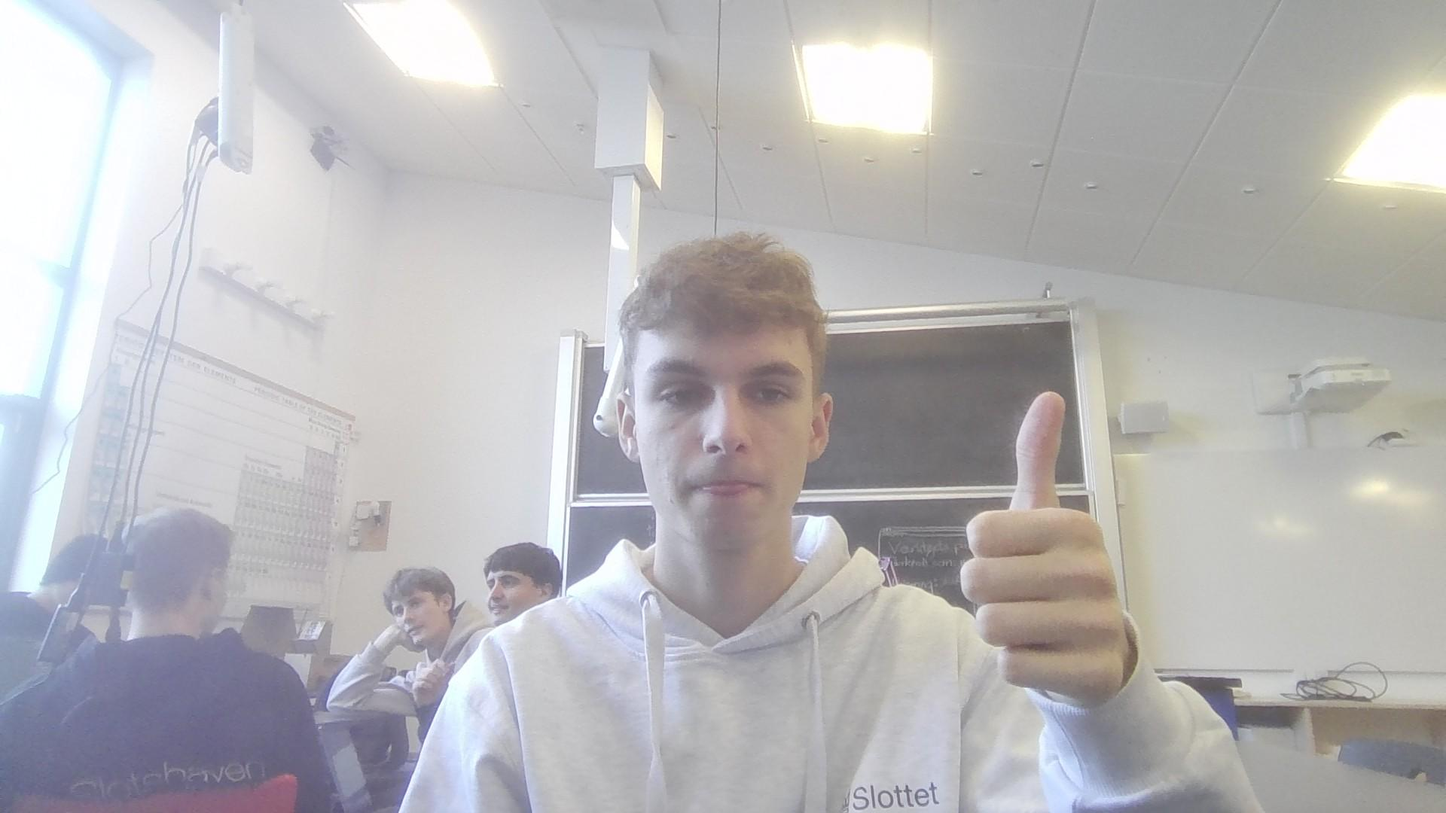thumbs up: (953, 388, 1130, 687)
